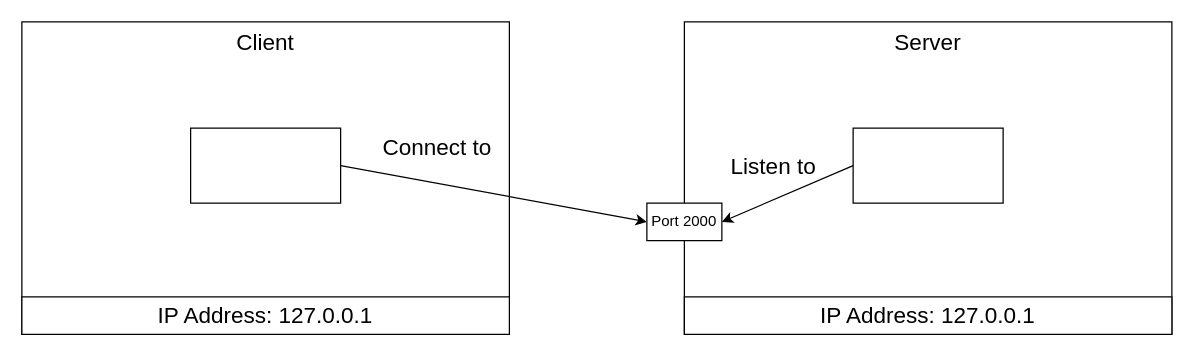
The diagram is 1194 pixels wide and 356 high, and some of its shapes have lost their labels. The shapes that lost their labels are listed below. From the top down, each one's box as (x1, y1, x2, y2) in pixels, then its label:
(189, 127, 341, 203): Socket Client
(852, 127, 1003, 203): Socket Server
